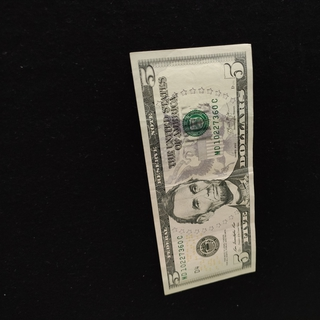5USDFront: (128, 43, 257, 296)
